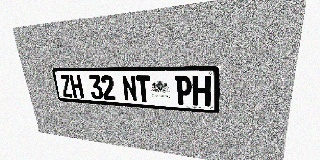2: (100, 75, 116, 100)
3: (88, 75, 103, 100)
H: (192, 75, 211, 106), (69, 75, 84, 98)
N: (122, 75, 137, 102)
P: (175, 75, 192, 105)
T: (135, 75, 151, 103)
Z: (59, 75, 73, 98)
